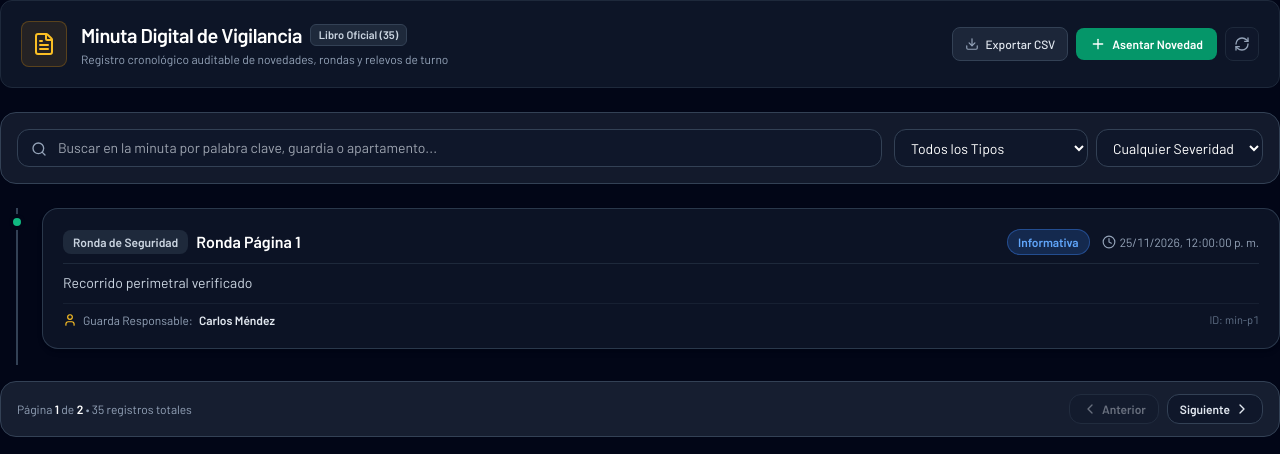
Test: Flujos Críticos UI, RBAC Visual, Paginación y Cola Offline › MinutaView renderiza respuesta paginada del servidor y permite cambiar de página
This screenshot has width=1280, height=454.
Check: the heading "Ronda Página 1" is shown, box [196,230,301,254]
Click the button "Siguiente".
click(1215, 409)  # box [1167,394,1263,424]
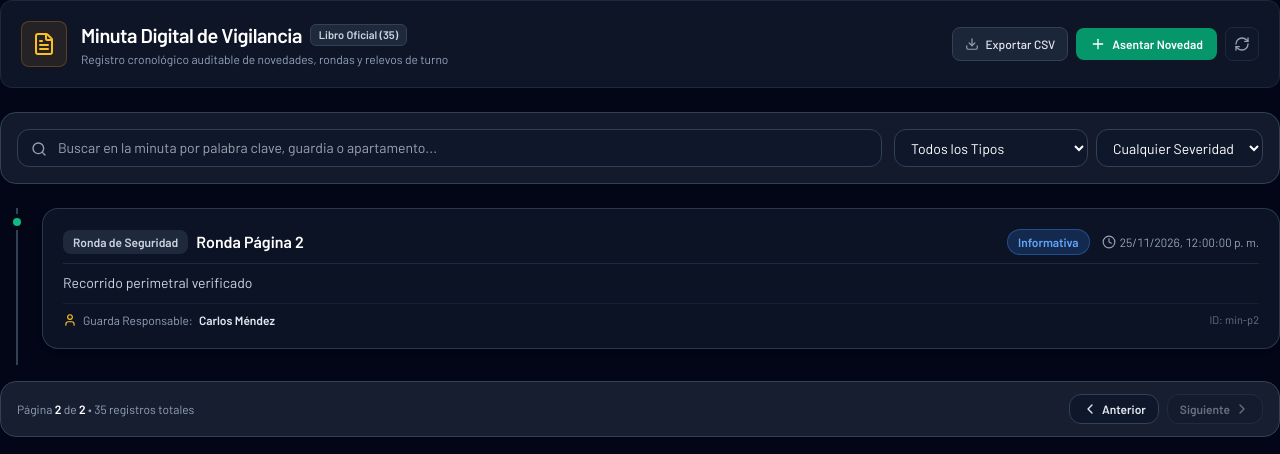
Check: the heading "Ronda Página 2" is shown, box [196,230,304,254]
